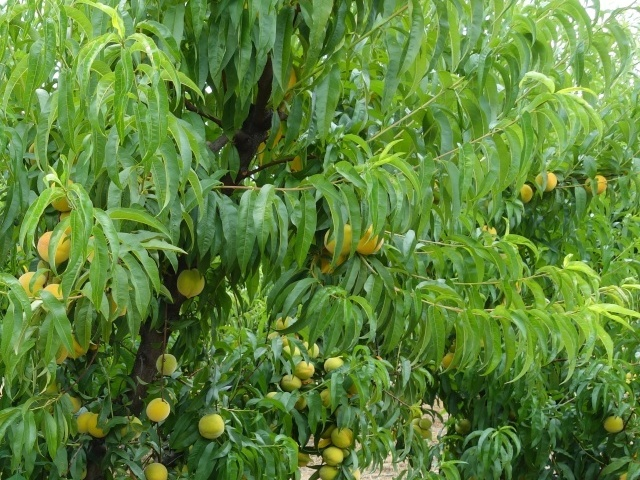peach: (13, 265, 56, 303), (35, 226, 74, 265), (322, 221, 360, 259), (354, 226, 387, 263), (176, 265, 207, 299), (143, 396, 177, 427), (196, 410, 227, 441), (39, 283, 67, 310), (47, 191, 74, 219), (328, 422, 356, 449), (533, 167, 561, 194), (154, 352, 180, 381), (581, 172, 609, 198), (293, 358, 320, 384), (87, 414, 113, 439), (321, 443, 345, 470), (323, 353, 348, 378), (279, 370, 302, 396), (142, 459, 170, 480), (603, 411, 623, 439), (515, 178, 536, 204), (72, 409, 96, 431), (452, 416, 475, 436), (317, 462, 340, 480)
